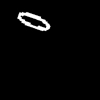chain: (18, 12, 49, 30)
